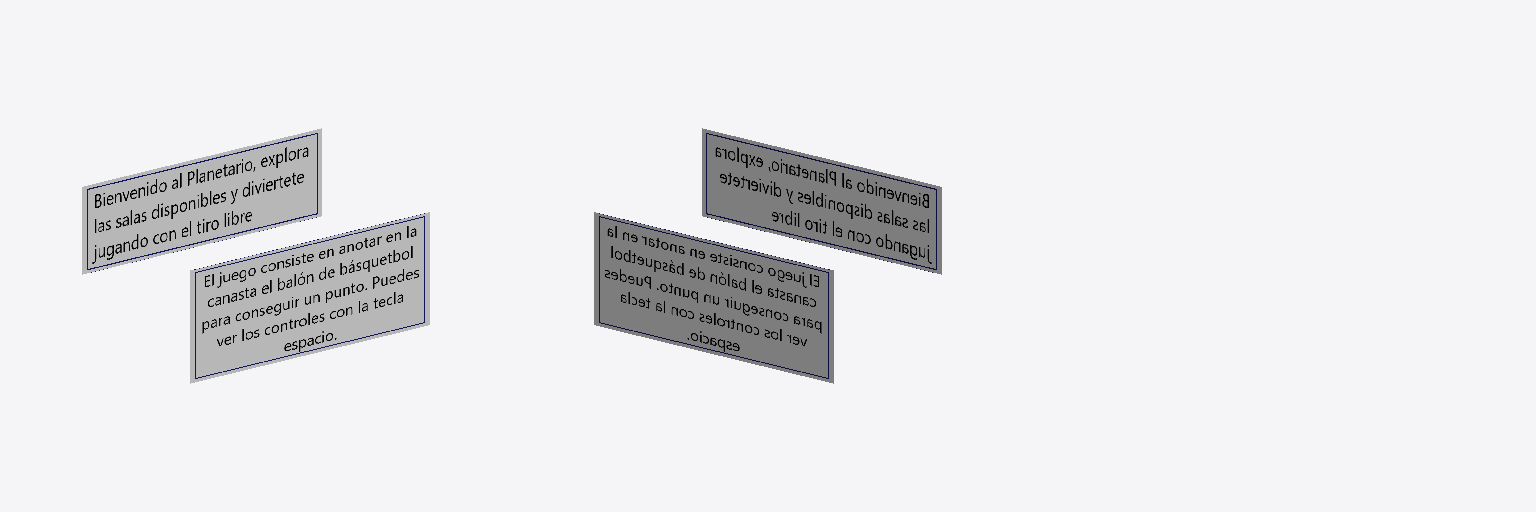
3 views of the same model, side by side, from view 1: azimuth 30°, elevation 25°; view 2: azimuth 150°, elevation 25°; view 3: azimuth 270°, elevation 25° (orthographic).
Visible parts, largest first — view 1: pasted__pPlane1 group, pPlane1; view 2: pasted__pPlane1 group, pPlane1; view 3: none.
Boxes of the visible parts, x1=… form: pasted__pPlane1 group: x1=190, y1=212, x2=429, y2=383; pPlane1: x1=82, y1=128, x2=321, y2=274; pasted__pPlane1 group: x1=594, y1=212, x2=833, y2=383; pPlane1: x1=702, y1=128, x2=941, y2=274.
Size of the model in its own units: 2.75 by 1.69 by 0.
Materials: 1 (1 with a texture image).